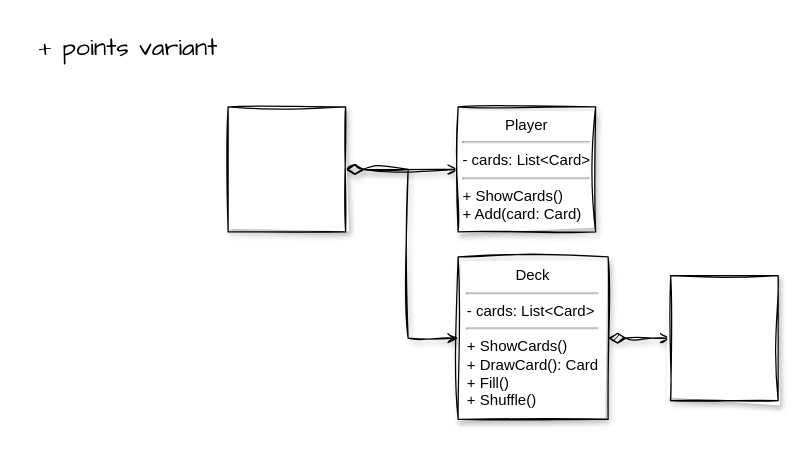
Some shapes in this 808 by 450 pixel diagram are drawn without their labels. The shapes that lost their labels are listed below. From the top down, each one's centre as x and y in pixels, then its label:
At (x=287, y=171): "Croupier - player: Player - deck: Deck + DealCard()".
At (x=725, y=339): "Card - suit: string - value: string + ShowInfo()".
